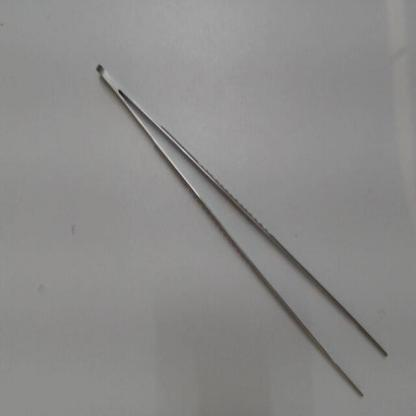DeBakey Dissector: (89, 47, 400, 410)
